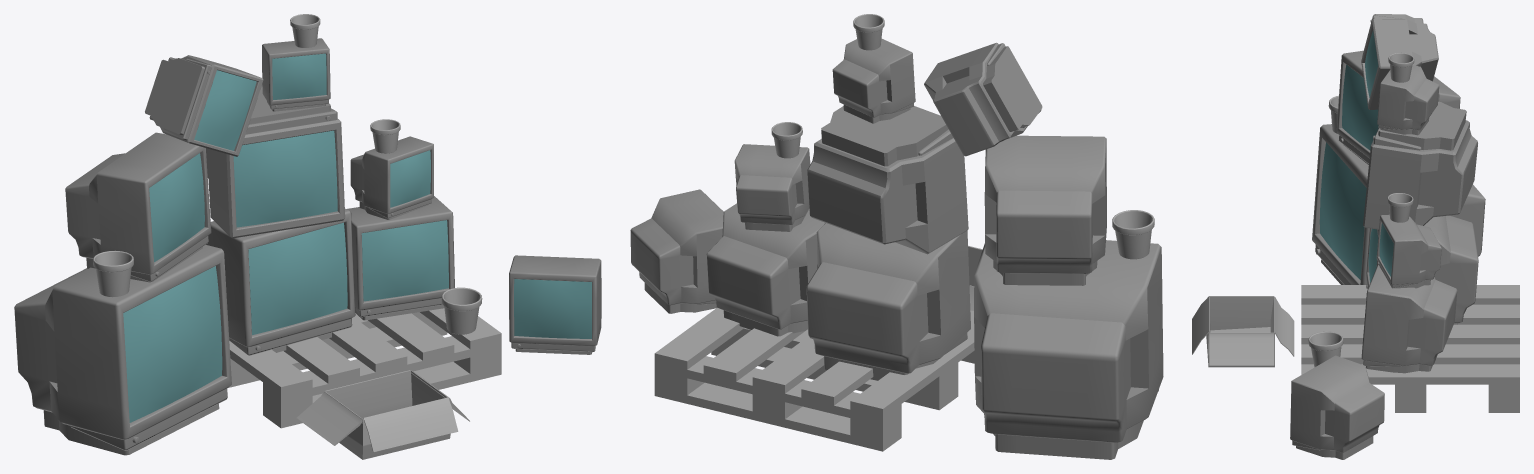
Rendered from SM_Shrine.fbx.
The picture shows the model from 3 angles, left to right: view 1: azimuth 30°, elevation 25°; view 2: azimuth 150°, elevation 25°; view 3: azimuth 270°, elevation 25°; orthographic projection. The views are drawn at different scales.
Parts seen in each view (by area): view 1: SM_Shrine; view 2: SM_Shrine; view 3: SM_Shrine.
Part boxes in pixels (box(x1,y1,x2,y2)): SM_Shrine: box(14, 14, 601, 459); SM_Shrine: box(630, 14, 1163, 459); SM_Shrine: box(1192, 14, 1519, 459).
Bounding box in the file's own units: 262 × 169 × 165.
